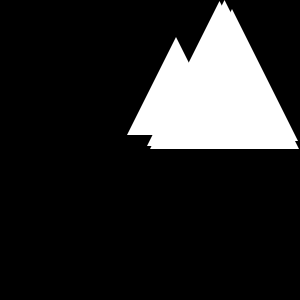triangle: (150, 0, 299, 149), (147, 1, 292, 146), (166, 9, 298, 141), (127, 37, 225, 135), (201, 33, 261, 93)
